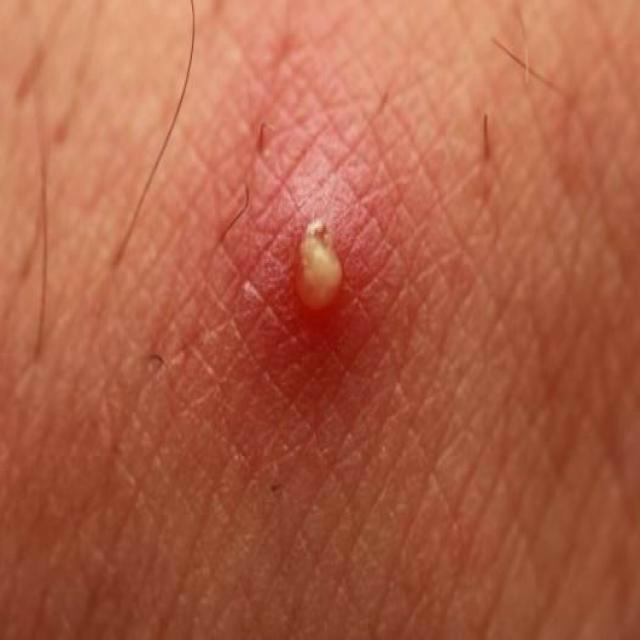Pimples: (274, 194, 356, 338)
